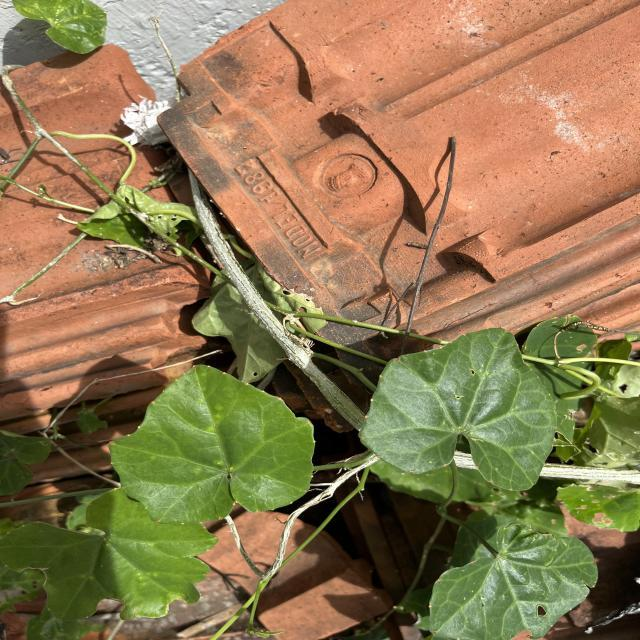Coccinia grandis: (106, 362, 318, 526), (356, 326, 560, 492)
